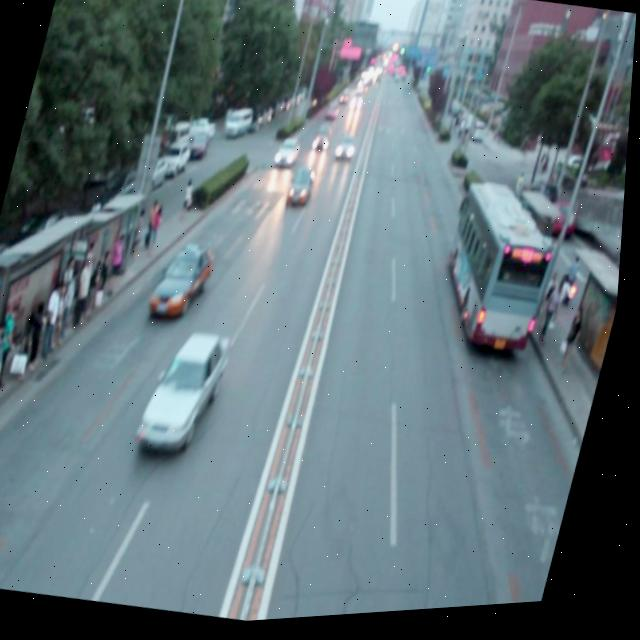car: (145, 329, 236, 463), (152, 235, 221, 332), (286, 168, 318, 217), (272, 134, 305, 177), (332, 138, 362, 175), (311, 126, 336, 162)
van: (428, 177, 572, 370)
